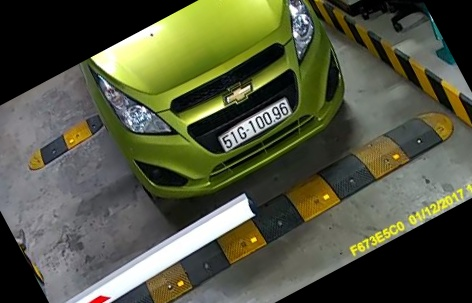plate: (217, 98, 298, 162)
